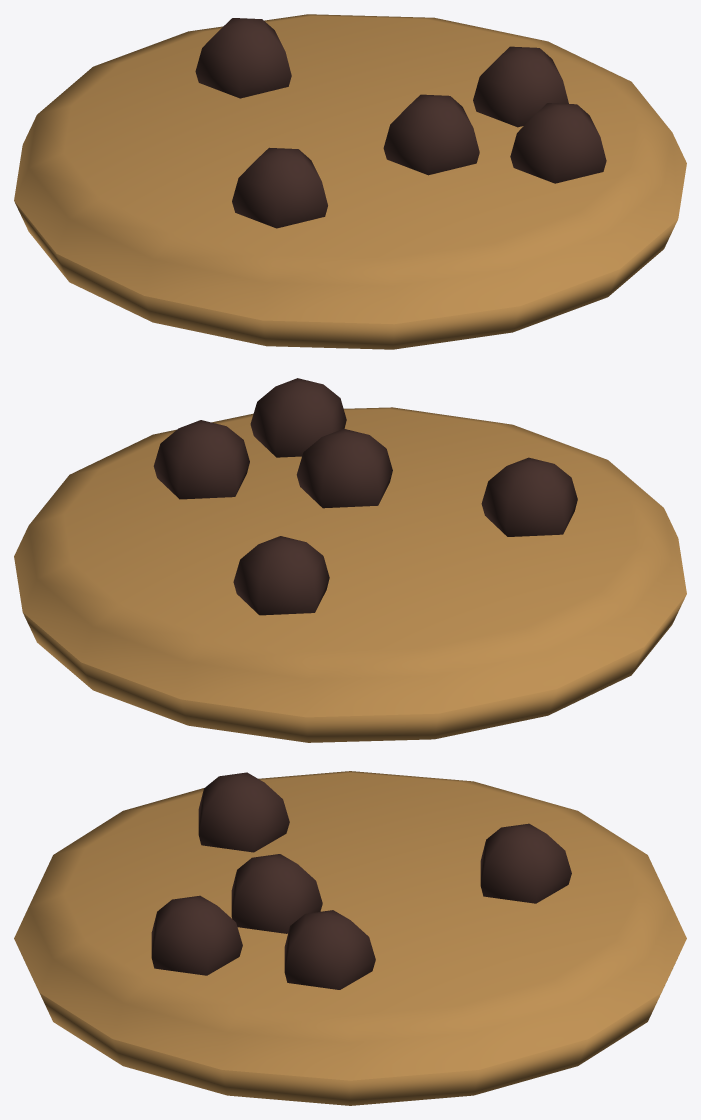
Rendered from food_cookie.glb.
The picture shows the model from 3 angles, top to bottom: view 1: azimuth 30°, elevation 25°; view 2: azimuth 150°, elevation 25°; view 3: azimuth 270°, elevation 25°; orthographic projection.
Visible parts, largest first — view 1: food_cookie; view 2: food_cookie; view 3: food_cookie.
Boxes of the visible parts, <box> form: food_cookie: <box>14,14,686,349</box>; food_cookie: <box>14,378,686,742</box>; food_cookie: <box>14,771,686,1105</box>.
Size of the model in its own units: 0.24 by 0.0575 by 0.24.
